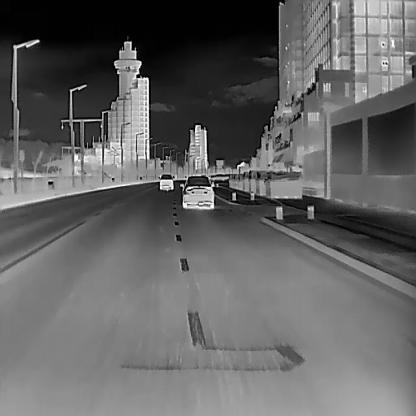car: (179, 175, 214, 210), (158, 173, 173, 189)
